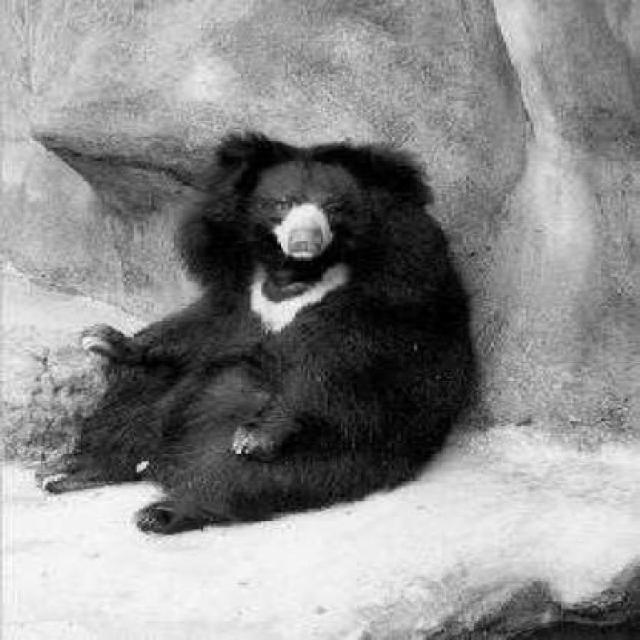Bear: (36, 118, 502, 537)
